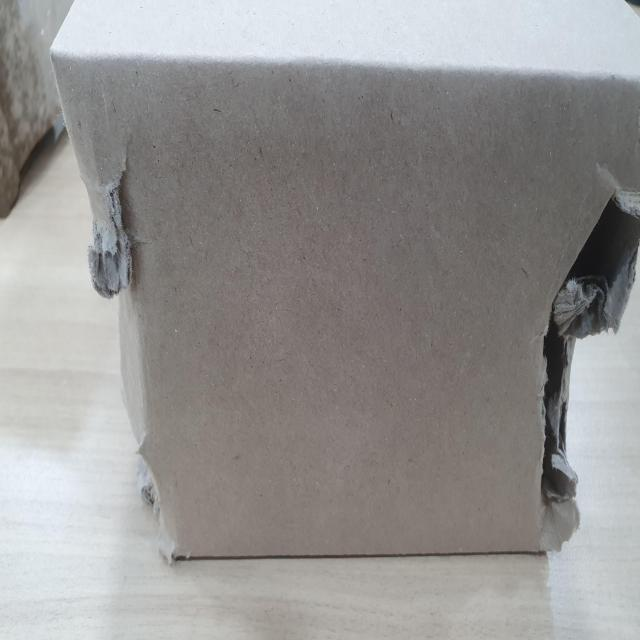damaged: (541, 169, 640, 507)
